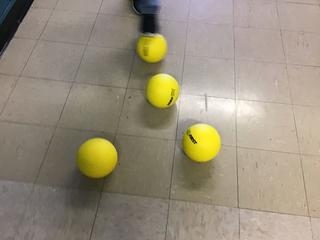power_cell: (76, 135, 121, 181), (180, 123, 224, 162), (143, 72, 181, 112), (136, 32, 170, 65)
